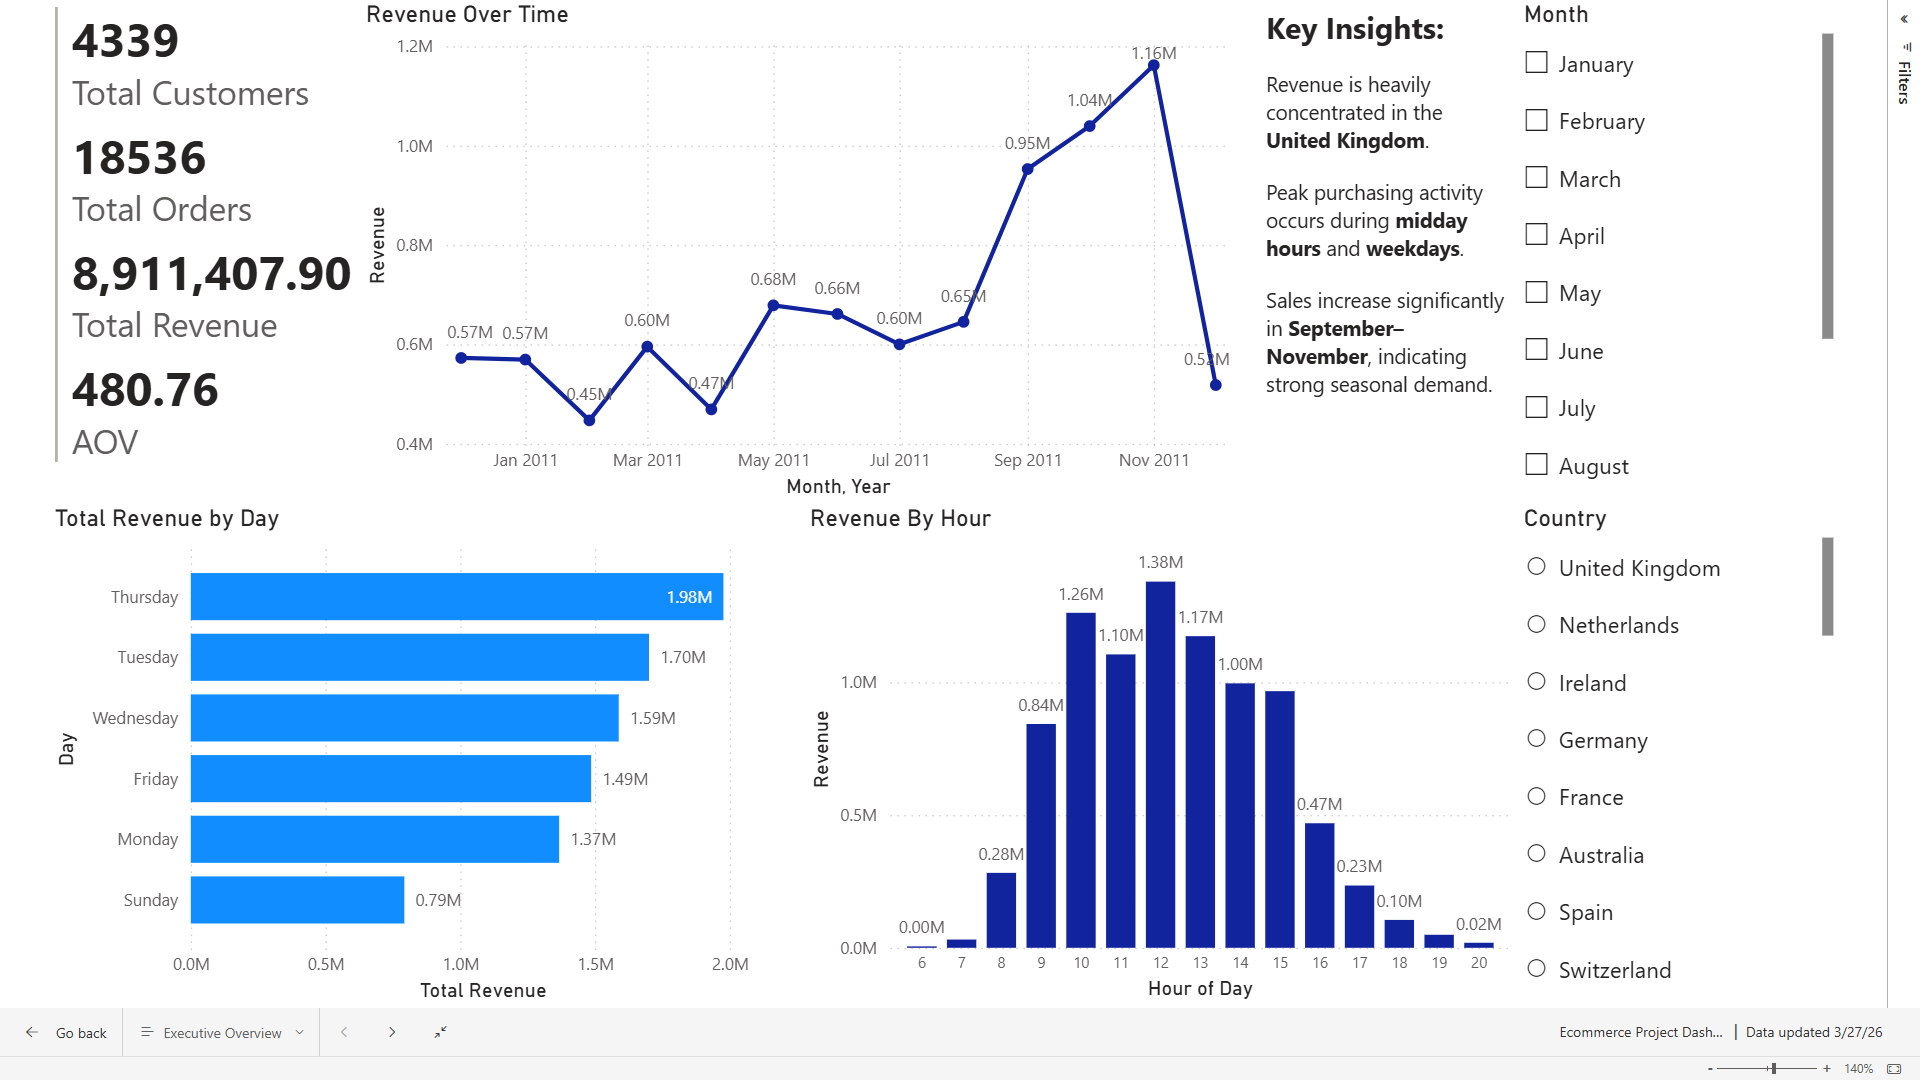

The dashboard page shown, as its layout file describes it:
{"tool":"powerbi","page":{"name":"Executive Overview","canvas":[1280,720],"ordinal":0},"visuals":[{"type":"multiRowCard","fields":{"Values":["online_retail_cleaned.Total Customers","online_retail_cleaned.Total Orders","online_retail_cleaned.Total Revenue","online_retail_cleaned.AOV"]},"box":[0,0,222,360],"z":0},{"type":"lineChart","title":"Revenue Over Time","fields":{"Y":["Sum(monthly_revenue.Revenue)"],"Category":["monthly_revenue.YearMonth.Variation.Date Hierarchy.Year","monthly_revenue.YearMonth.Variation.Date Hierarchy.Quarter","monthly_revenue.YearMonth.Variation.Date Hierarchy.Month","monthly_revenue.YearMonth.Variation.Date Hierarchy.Day"]},"box":[222,0,643,360],"z":1000},{"type":"barChart","title":"Total Revenue by Day","fields":{"Category":["online_retail_cleaned.Day"],"Y":["Sum(online_retail_cleaned.TotalPrice)"]},"box":[0,360,539,360],"z":2000},{"type":"columnChart","title":"Revenue By Hour","fields":{"Y":["Sum(online_retail_cleaned.TotalPrice)"],"Category":["online_retail_cleaned.Hour"]},"box":[539,360,510,359],"z":3000},{"type":"listSlicer","fields":{"Values":["online_retail_cleaned.YearMonth.Variation.Date Hierarchy.Month1"]},"box":[1049,0,231,360],"z":4000},{"type":"listSlicer","title":"Country","fields":{"Values":["online_retail_cleaned.Country"]},"box":[1049,360,231,358],"z":5000},{"type":"textbox","box":[865,0,184,360],"z":6000}]}

Visuals, with their boxes on the page's 1280x720 design canvas (x1, y1, x2, y2). These are canvas units, not pixel positions in the 1920x1080 screenshot, which may show the page scaled, cropped or inside an application window:
multiRowCard - online_retail_cleaned.Total Customers x online_retail_cleaned.Total Orders: (left=0, top=0, right=222, bottom=360)
"Revenue Over Time" lineChart: (left=222, top=0, right=865, bottom=360)
"Total Revenue by Day" barChart: (left=0, top=360, right=539, bottom=720)
"Revenue By Hour" columnChart: (left=539, top=360, right=1049, bottom=719)
listSlicer - online_retail_cleaned.YearMonth.Variation.Date Hierarchy.Month1: (left=1049, top=0, right=1280, bottom=360)
"Country" listSlicer: (left=1049, top=360, right=1280, bottom=718)
textbox: (left=865, top=0, right=1049, bottom=360)
